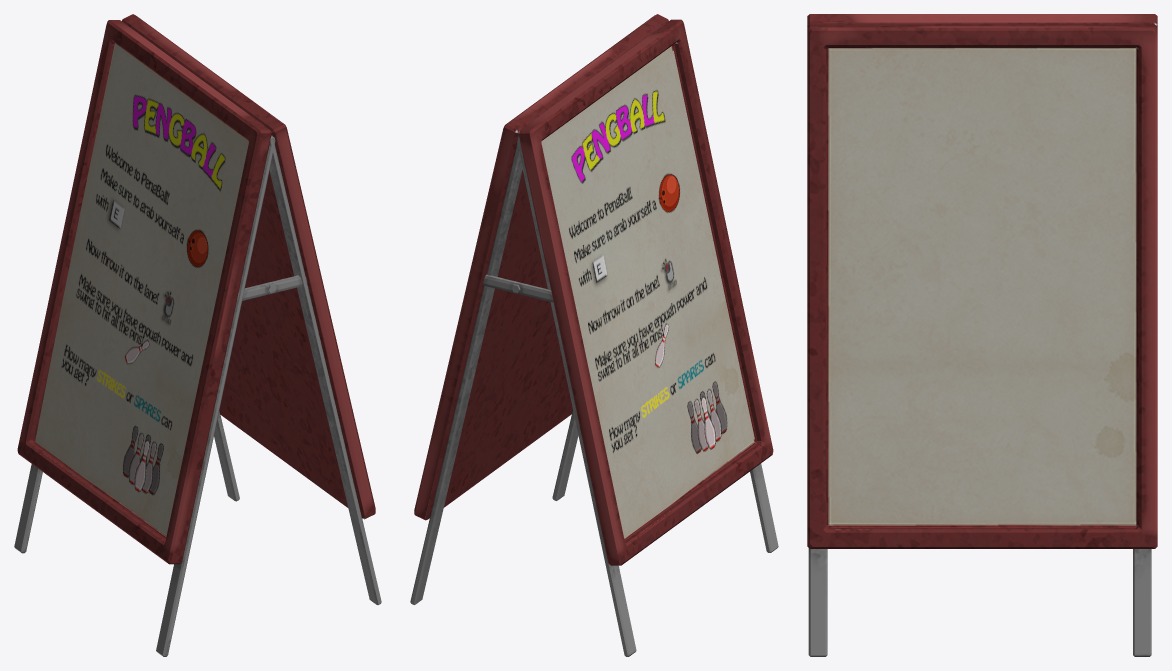
File: InfoBoard.glb
3 renders of one model, left to right at view 1: azimuth 30°, elevation 25°; view 2: azimuth 150°, elevation 25°; view 3: azimuth 270°, elevation 25°, orthographic. The views are drawn at different scales.
Visible parts, largest first — view 1: polySurface5, polySurface1, polySurface4, polySurface7, polySurface6, polySurface8, polySurface3; view 2: polySurface5, polySurface1, polySurface8, polySurface6, polySurface7, polySurface4, polySurface10; view 3: polySurface1, polySurface5, polySurface4, polySurface8.
Boxes of the visible parts, left/top/right/bottom form: polySurface5: left=17, top=20, right=271, bottom=564; polySurface1: left=122, top=14, right=375, bottom=519; polySurface4: left=269, top=136, right=381, bottom=604; polySurface7: left=156, top=135, right=275, bottom=656; polySurface6: left=14, top=464, right=42, bottom=553; polySurface8: left=214, top=411, right=239, bottom=501; polySurface3: left=236, top=275, right=307, bottom=301; polySurface5: left=518, top=19, right=773, bottom=565; polySurface1: left=414, top=14, right=668, bottom=520; polySurface8: left=410, top=141, right=522, bottom=604; polySurface6: left=517, top=136, right=636, bottom=656; polySurface7: left=750, top=463, right=778, bottom=552; polySurface4: left=552, top=410, right=578, bottom=500; polySurface10: left=483, top=274, right=553, bottom=302; polySurface1: left=807, top=24, right=1157, bottom=548; polySurface5: left=807, top=14, right=1157, bottom=26; polySurface4: left=808, top=548, right=827, bottom=656; polySurface8: left=1133, top=549, right=1151, bottom=656.
Size of the model in its own units: 1.14 by 2.51 by 1.38.
3 materials, 3 textured.
